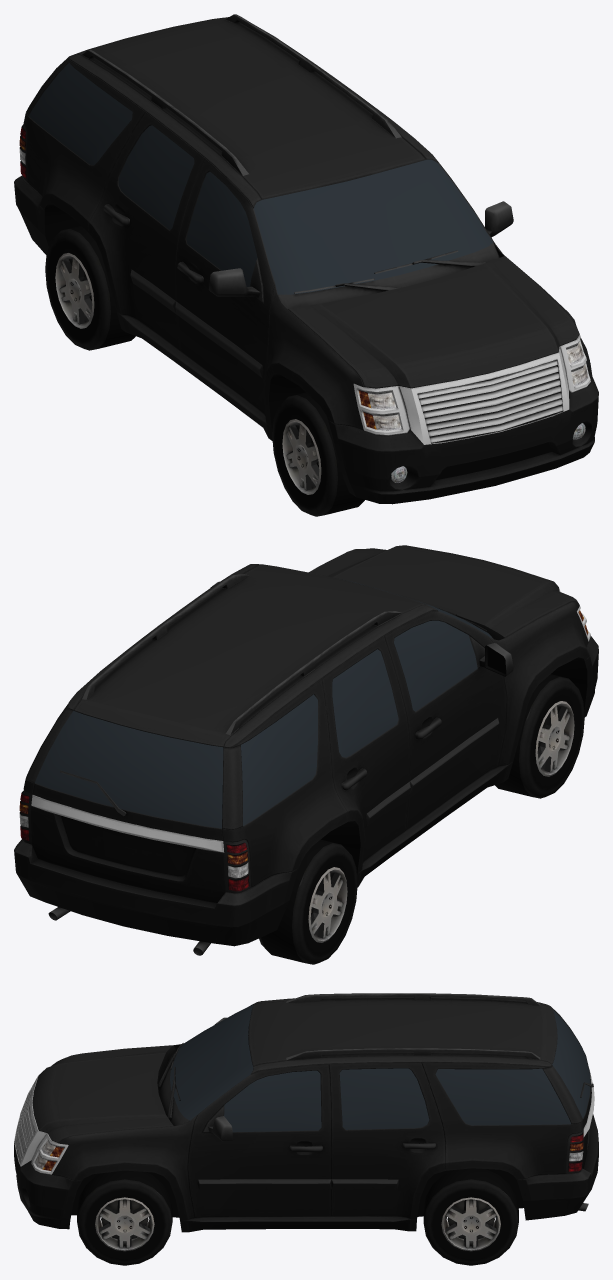
Rendered from car_suv.gltf.
The picture shows the model from 3 angles, top to bottom: view 1: azimuth 30°, elevation 25°; view 2: azimuth 150°, elevation 25°; view 3: azimuth 270°, elevation 25°; orthographic projection. The views are drawn at different scales.
Parts seen in each view (by area): view 1: car_suv; view 2: car_suv; view 3: car_suv.
Boxes of the visible parts, x1=… form: car_suv: x1=14, y1=14, x2=598, y2=516; car_suv: x1=14, y1=545, x2=598, y2=964; car_suv: x1=14, y1=993, x2=598, y2=1265.
Bounding box in the file's own units: 2.11 × 1.77 × 4.7.
1 material, 1 textured.
